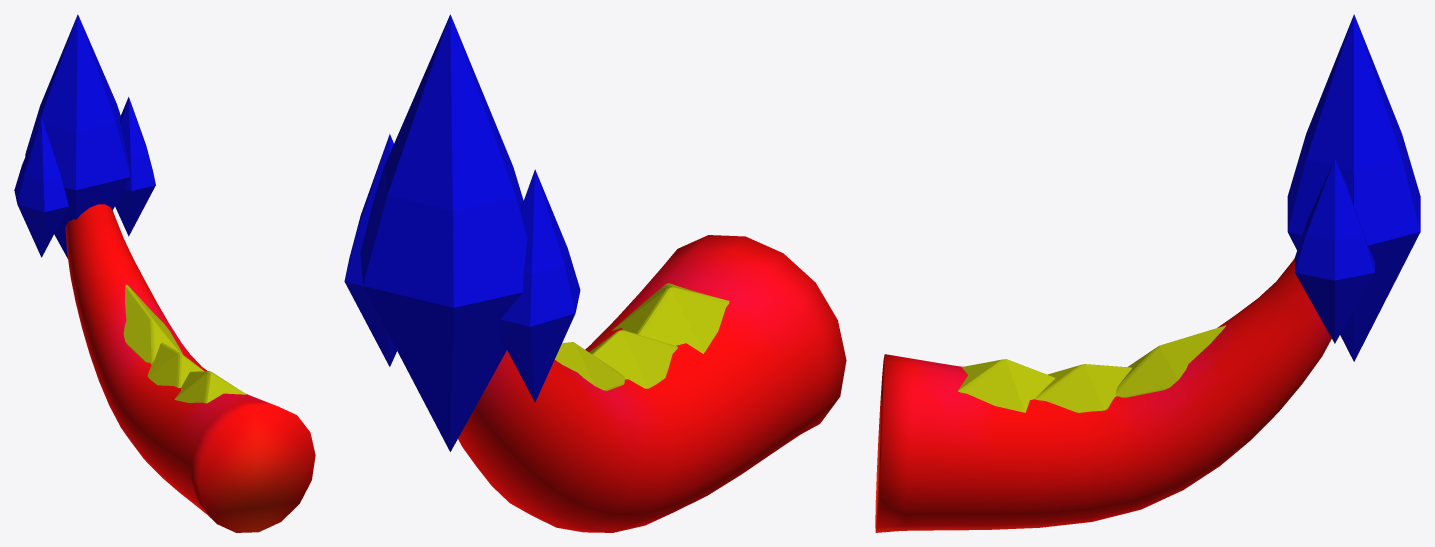
File: GXR_TAIL_05_GENESIS.glb
3 views of the same model, side by side, from view 1: azimuth 30°, elevation 25°; view 2: azimuth 150°, elevation 25°; view 3: azimuth 270°, elevation 25° (orthographic). The views are drawn at different scales.
Parts seen in each view (by area): view 1: Mesh_Tail_surface.003, Mesh_Genesis_tip, Mesh_Genesis_shard, Mesh_Genesis_shard.001, Mesh_Tail_Overlapping_Scale.008, Mesh_Tail_Overlapping_Scale.007, Mesh_Tail_Overlapping_Scale.006; view 2: Mesh_Tail_surface.003, Mesh_Genesis_tip, Mesh_Genesis_shard, Mesh_Tail_Overlapping_Scale.006, Mesh_Tail_Overlapping_Scale.007, Mesh_Genesis_shard.001, Mesh_Tail_Overlapping_Scale.008; view 3: Mesh_Tail_surface.003, Mesh_Genesis_tip, Mesh_Genesis_shard.001, Mesh_Tail_Overlapping_Scale.006, Mesh_Tail_Overlapping_Scale.008, Mesh_Tail_Overlapping_Scale.007.
Part boxes in pixels (box(x1,y1,x2,y2)): Mesh_Tail_surface.003: box(65, 204, 315, 532); Mesh_Genesis_tip: box(25, 14, 130, 258); Mesh_Genesis_shard: box(14, 118, 68, 257); Mesh_Genesis_shard.001: box(115, 97, 155, 236); Mesh_Tail_Overlapping_Scale.008: box(123, 284, 183, 363); Mesh_Tail_Overlapping_Scale.007: box(147, 342, 204, 388); Mesh_Tail_Overlapping_Scale.006: box(174, 371, 246, 403); Mesh_Tail_surface.003: box(458, 235, 846, 532); Mesh_Genesis_tip: box(360, 14, 527, 451); Mesh_Genesis_shard: box(500, 169, 580, 402); Mesh_Tail_Overlapping_Scale.006: box(612, 283, 729, 353); Mesh_Tail_Overlapping_Scale.007: box(589, 330, 677, 388); Mesh_Genesis_shard.001: box(344, 134, 396, 366); Mesh_Tail_Overlapping_Scale.008: box(555, 342, 625, 390); Mesh_Tail_surface.003: box(875, 258, 1331, 532); Mesh_Genesis_tip: box(1287, 14, 1420, 361); Mesh_Genesis_shard.001: box(1295, 158, 1374, 343); Mesh_Tail_Overlapping_Scale.006: box(958, 359, 1054, 412); Mesh_Tail_Overlapping_Scale.008: box(1115, 325, 1225, 397); Mesh_Tail_Overlapping_Scale.007: box(1035, 364, 1131, 412).
Size of the model in its own units: 0.162 by 0.4399 by 0.4257.
